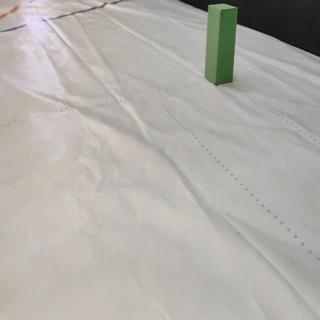greenbox: (206, 2, 238, 86)
